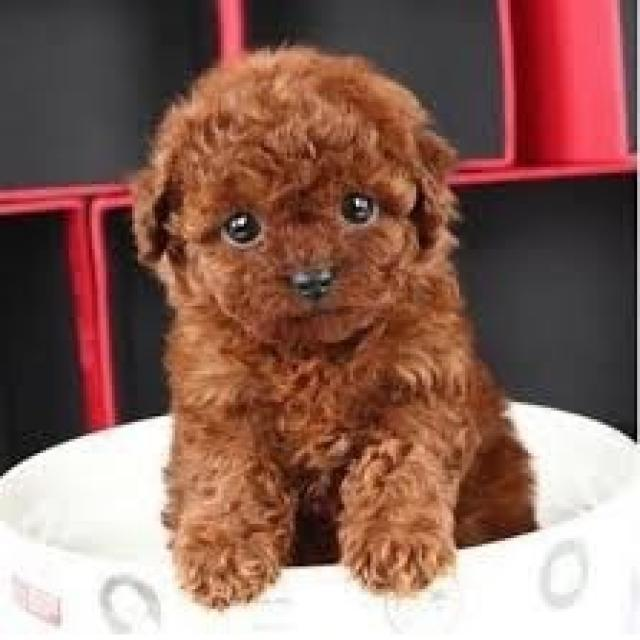puppy-dog: (133, 42, 544, 608)
